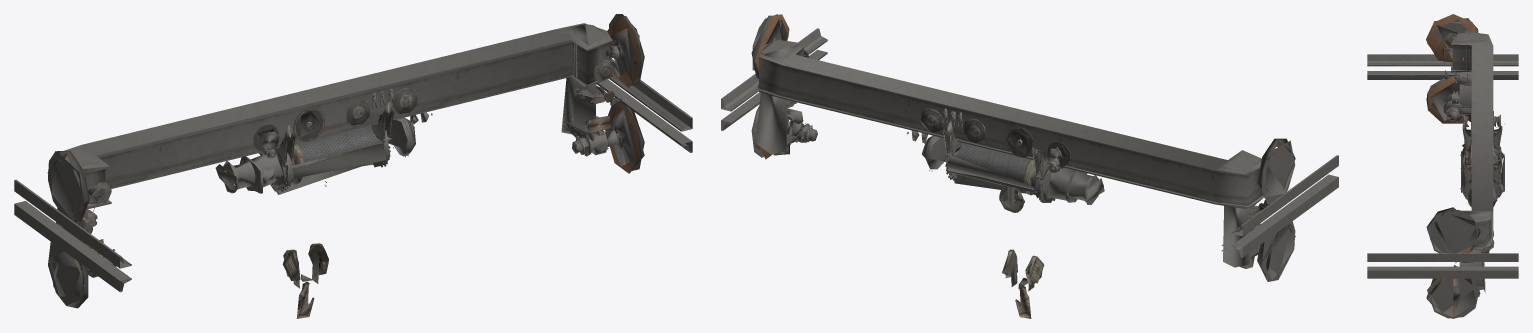
File: crane.glb
3 renders of one model, left to right at view 1: azimuth 30°, elevation 25°; view 2: azimuth 150°, elevation 25°; view 3: azimuth 270°, elevation 25°, orthographic. The views are drawn at different scales.
Parts seen in each view (by area): view 1: overhead_crane_rails, overhead_crane_winch; view 2: overhead_crane_rails, overhead_crane_winch; view 3: overhead_crane_rails, overhead_crane_winch.
Boxes of the visible parts, box(x1,y1,x2,y2) form: overhead_crane_rails: box(14, 14, 692, 305); overhead_crane_winch: box(47, 16, 644, 318); overhead_crane_rails: box(721, 14, 1338, 291); overhead_crane_winch: box(751, 14, 1295, 318); overhead_crane_rails: box(1367, 18, 1518, 318); overhead_crane_winch: box(1426, 14, 1504, 318).
Size of the model in its own units: 12.49 by 5.1 by 4.
Materials: 2 (2 with a texture image).
